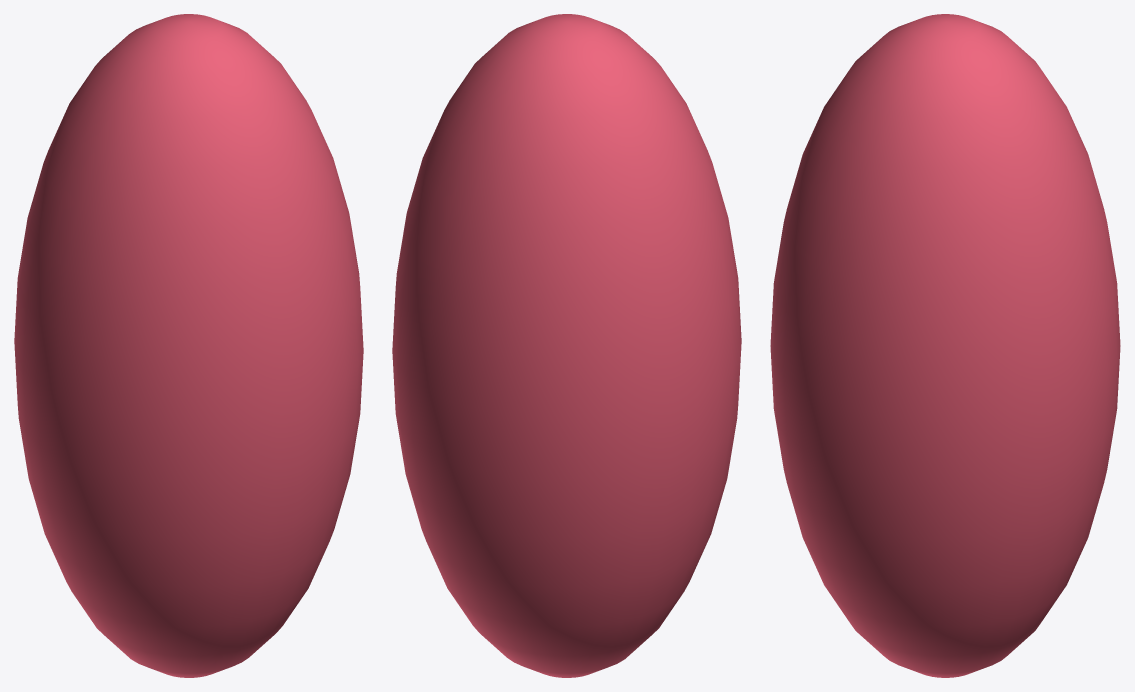
Rendered from BouncingBall2.fbx.
3 views of the same model, side by side, from view 1: azimuth 30°, elevation 25°; view 2: azimuth 150°, elevation 25°; view 3: azimuth 270°, elevation 25° (orthographic).
Visible parts, largest first — view 1: Sphere; view 2: Sphere; view 3: Sphere.
Part boxes in pixels (bbox=[...]): Sphere: bbox=[14, 14, 363, 677]; Sphere: bbox=[392, 14, 741, 677]; Sphere: bbox=[770, 14, 1120, 677].
Bounding box in the file's own units: 133 × 272 × 133.
